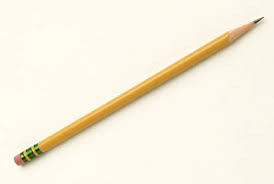Lapiz: (11, 14, 274, 170)
